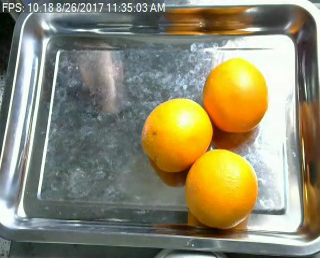Orange: (184, 149, 258, 229), (140, 98, 212, 172), (202, 57, 268, 133)
